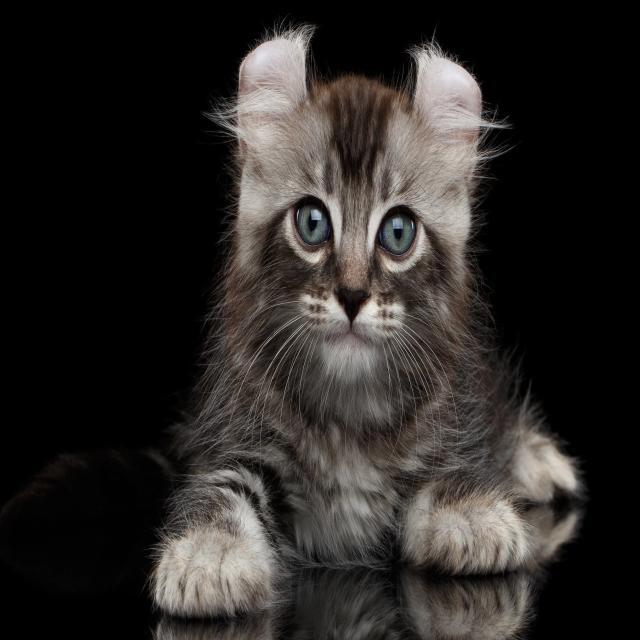American Curl: (145, 18, 581, 618)
